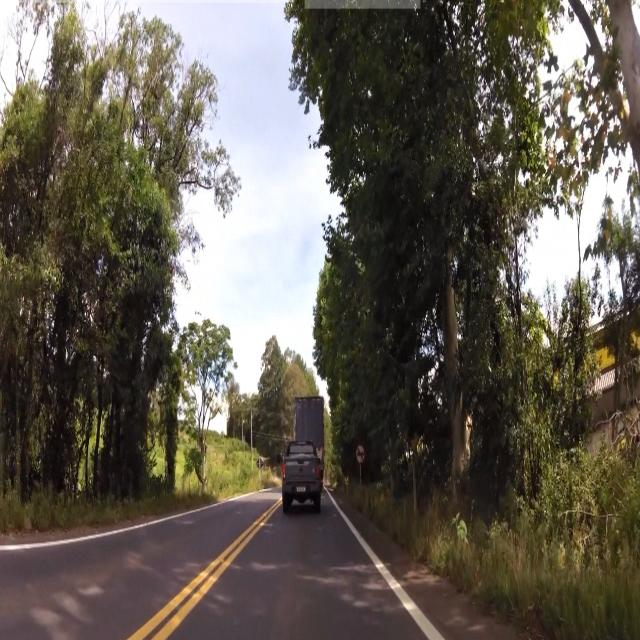R-7: (355, 444, 367, 464)
